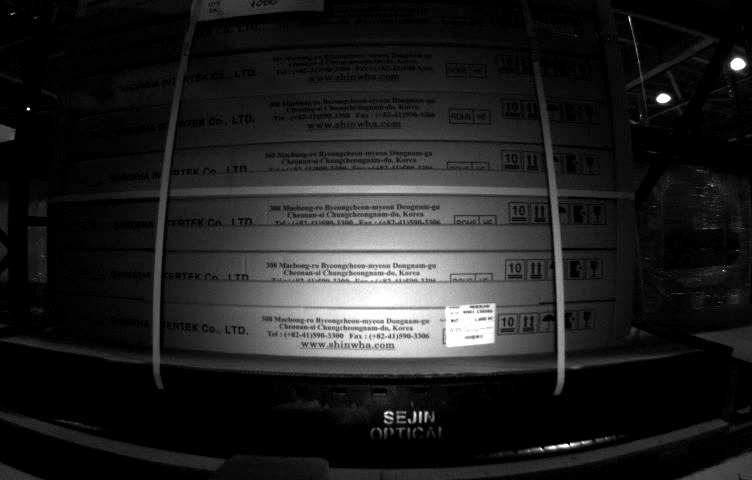True Barcode: (446, 303, 496, 345)
